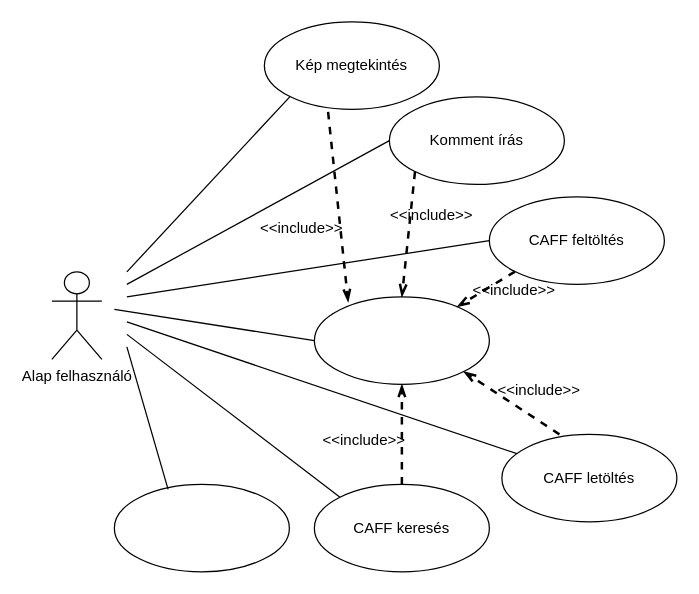
Some shapes in this 699 by 594 pixel diagram are drawn without their labels. The shapes that lost their labels are listed below. From the top down, each one's centre as x and y in pixels, then its label:
At point (401, 340): "Bejelentkezés".
At point (201, 527): "Regisztráció".
